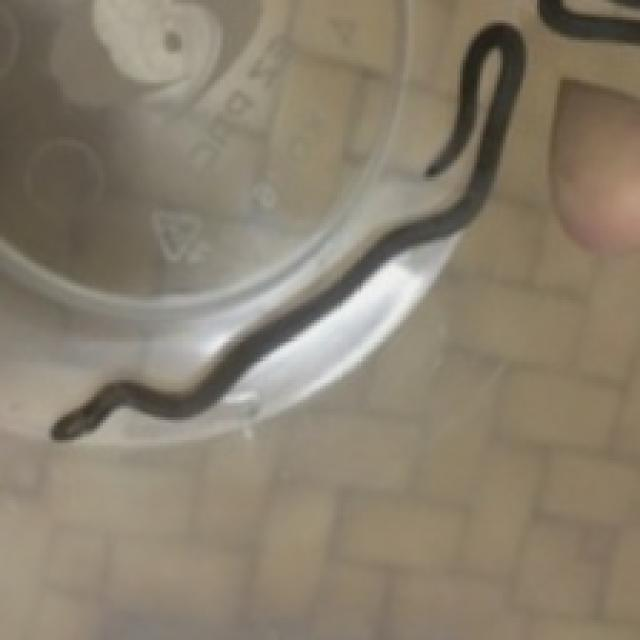gervais worm snake: (51, 23, 523, 437)
